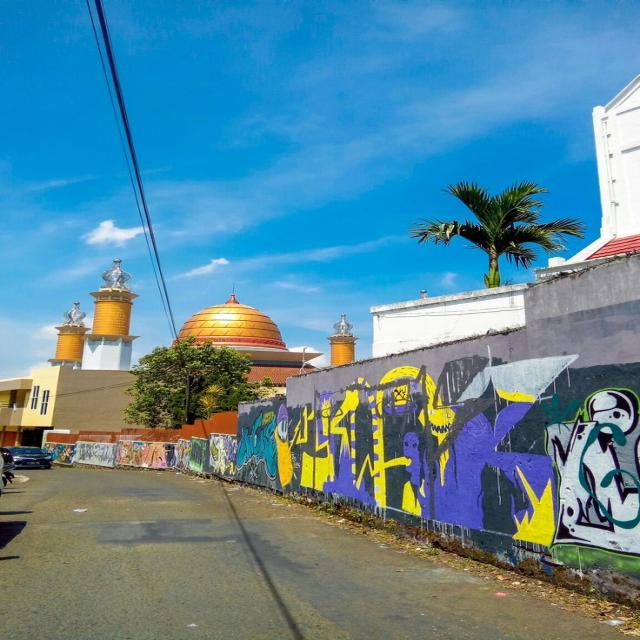-: (235, 351, 640, 557)
